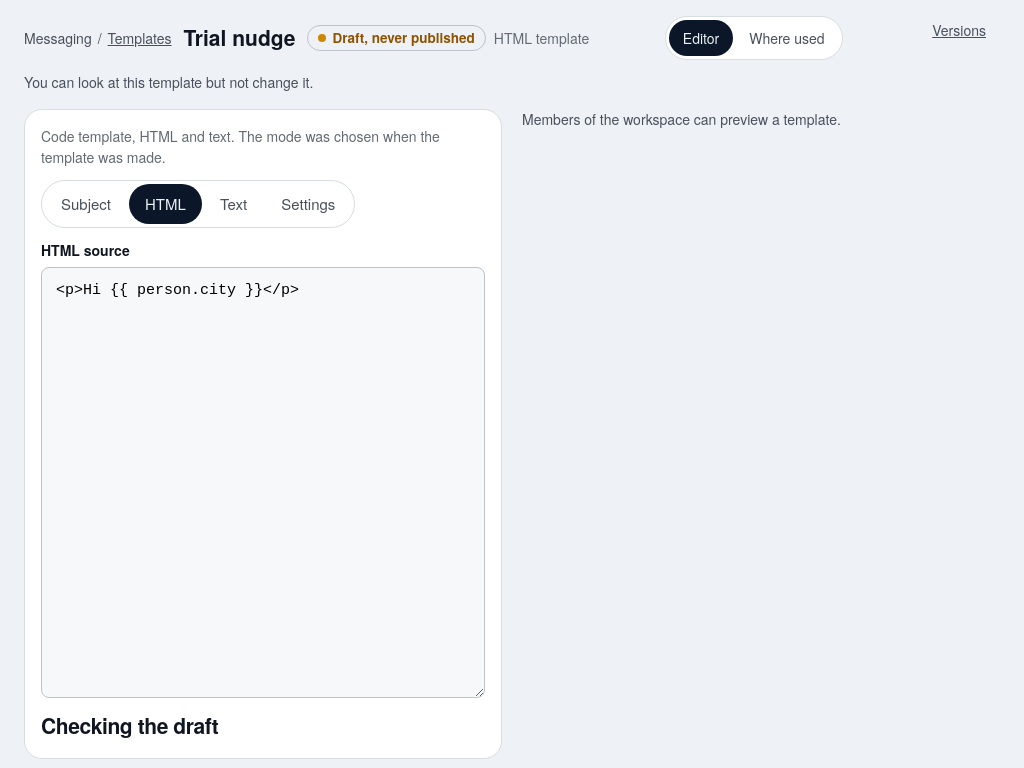
the UTM override of a template › is read only for a viewer who cannot write
This screenshot has width=1024, height=768.
Step 1. Click the tab "Settings" → point(308, 204), box [265, 184, 351, 224]
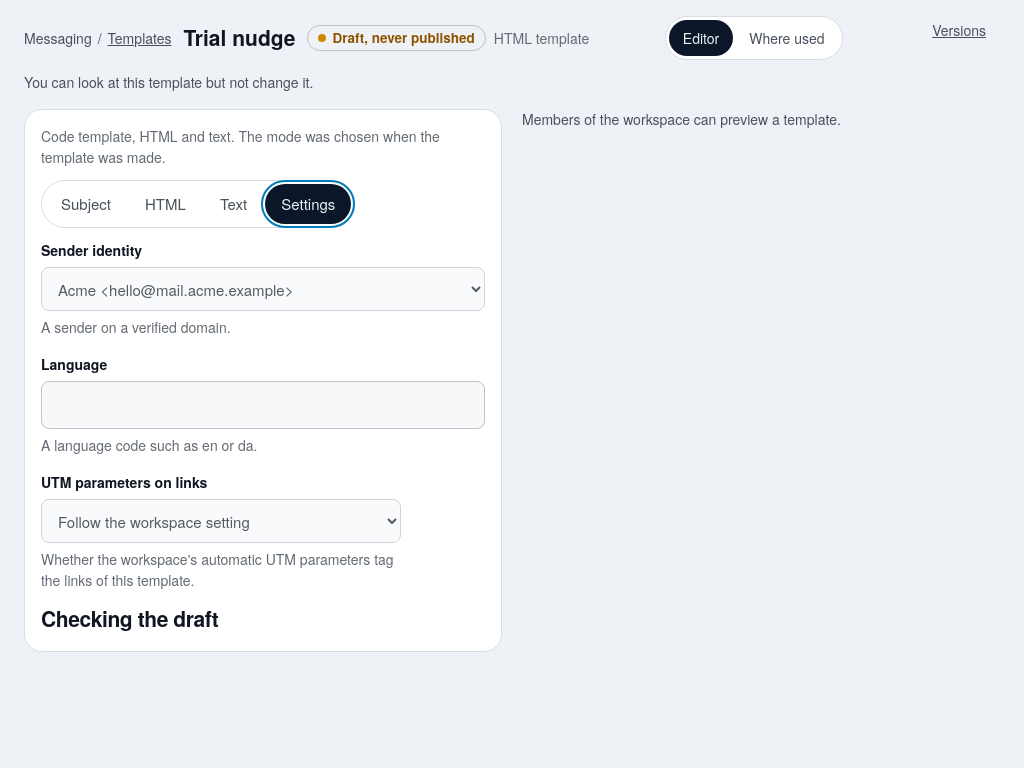
Expected: the dropdown labelled "UTM parameters on links" is disabled, [41, 499, 401, 543]
